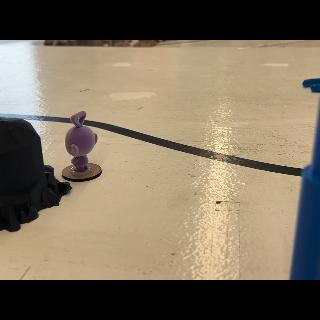teletubby: (65, 111, 98, 172)
